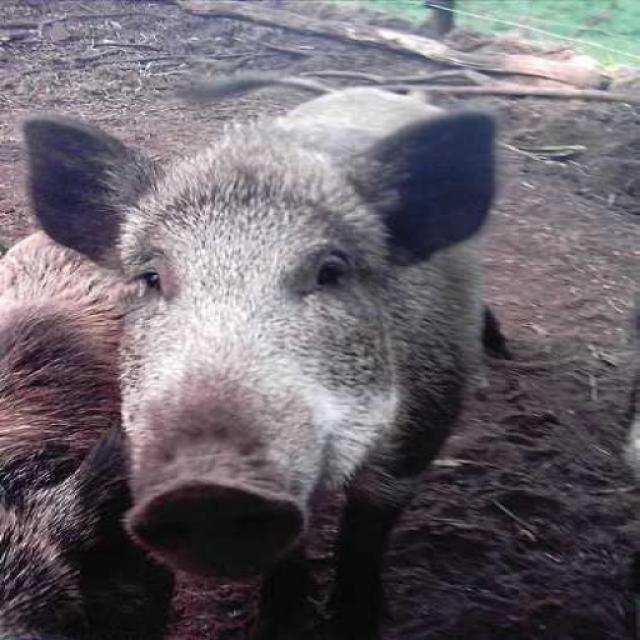pig: (0, 57, 482, 598)
